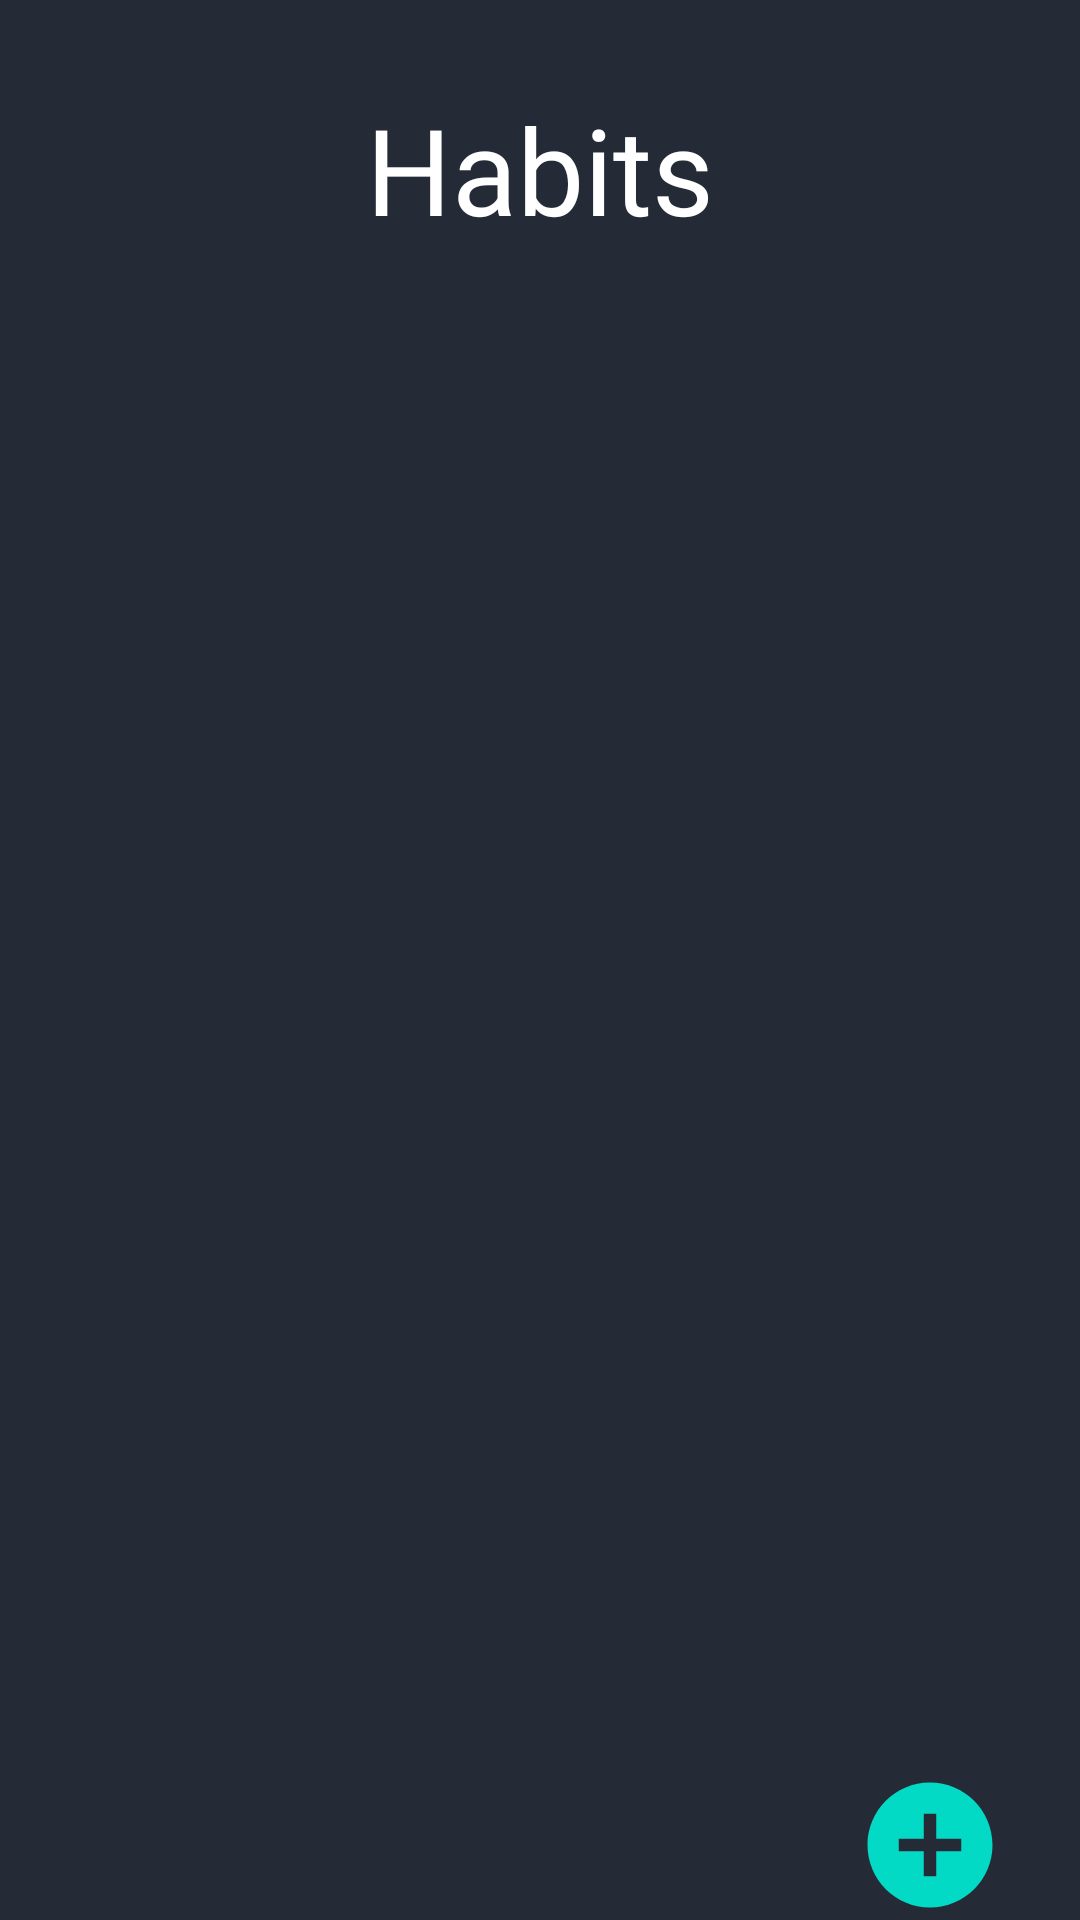

Point at icon controls on the screen. Image size 1080×1920, points as [x,y].
add circle: [930,1845]
